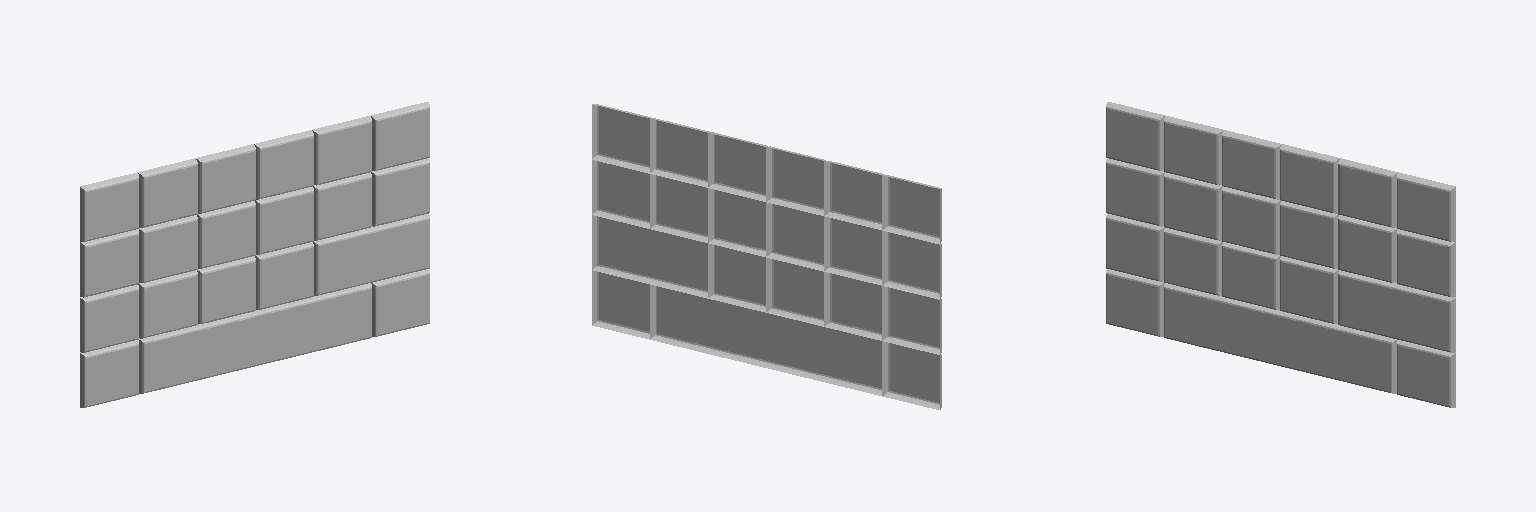
Rendered from macbook_keyboard.obj.
3 views of the same model, side by side, from view 1: azimuth 30°, elevation 25°; view 2: azimuth 150°, elevation 25°; view 3: azimuth 330°, elevation 25° (orthographic).
Parts seen in each view (by area): view 1: buttons; view 2: buttons; view 3: buttons.
Boxes of the visible parts, <box> form: buttons: <box>80,102,429,407</box>; buttons: <box>592,104,941,409</box>; buttons: <box>1106,102,1455,407</box>.
Size of the model in its own units: 87.19 by 52.84 by 1.76.